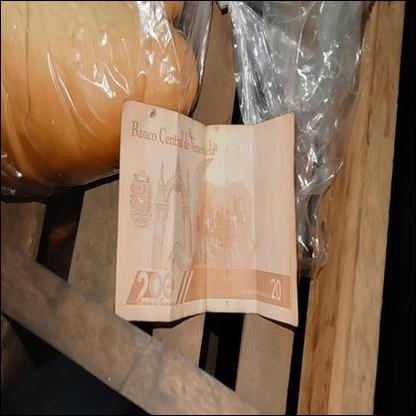twenty-back-vef: (115, 103, 298, 328)
